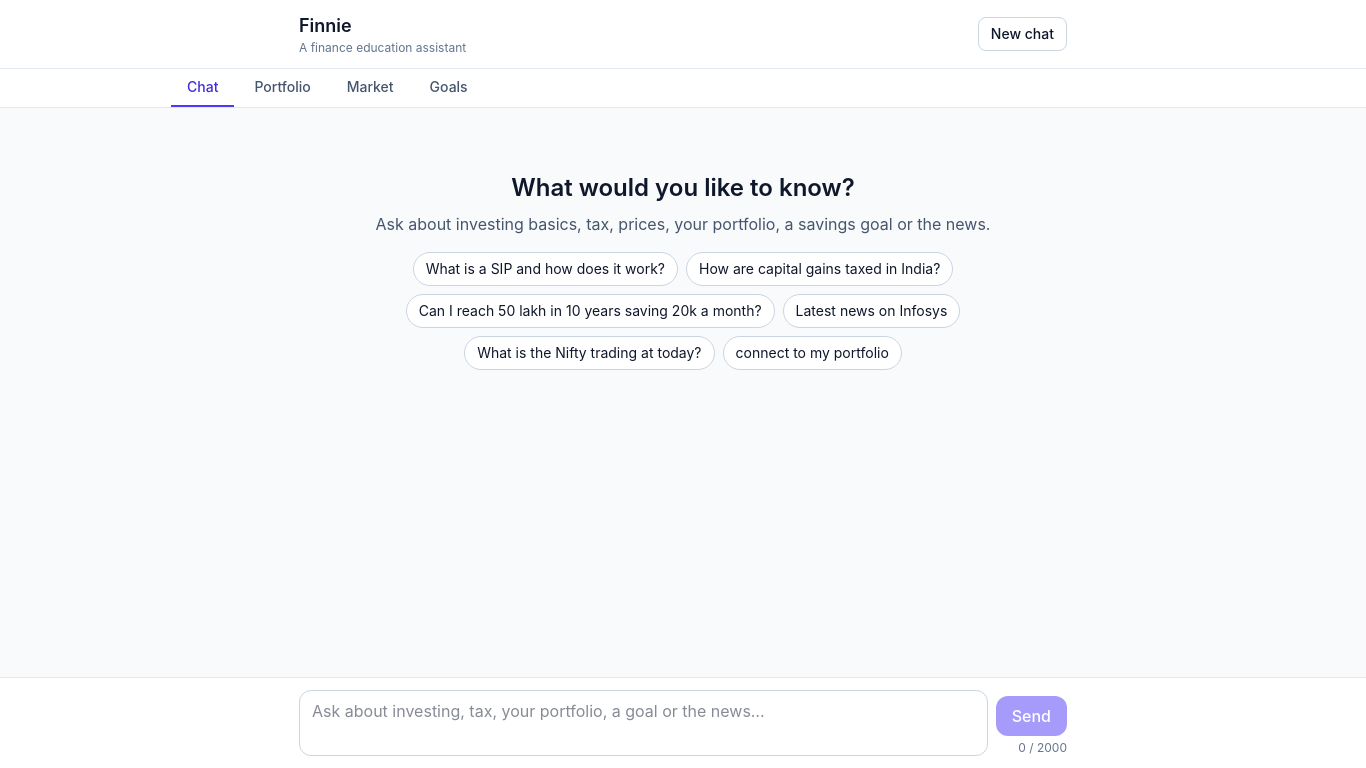
Test: App: the Goals tab › the question and the answer are in the transcript
This screenshot has width=1366, height=768.
Click the tab "Goals": (449, 88) [414, 69, 484, 107]
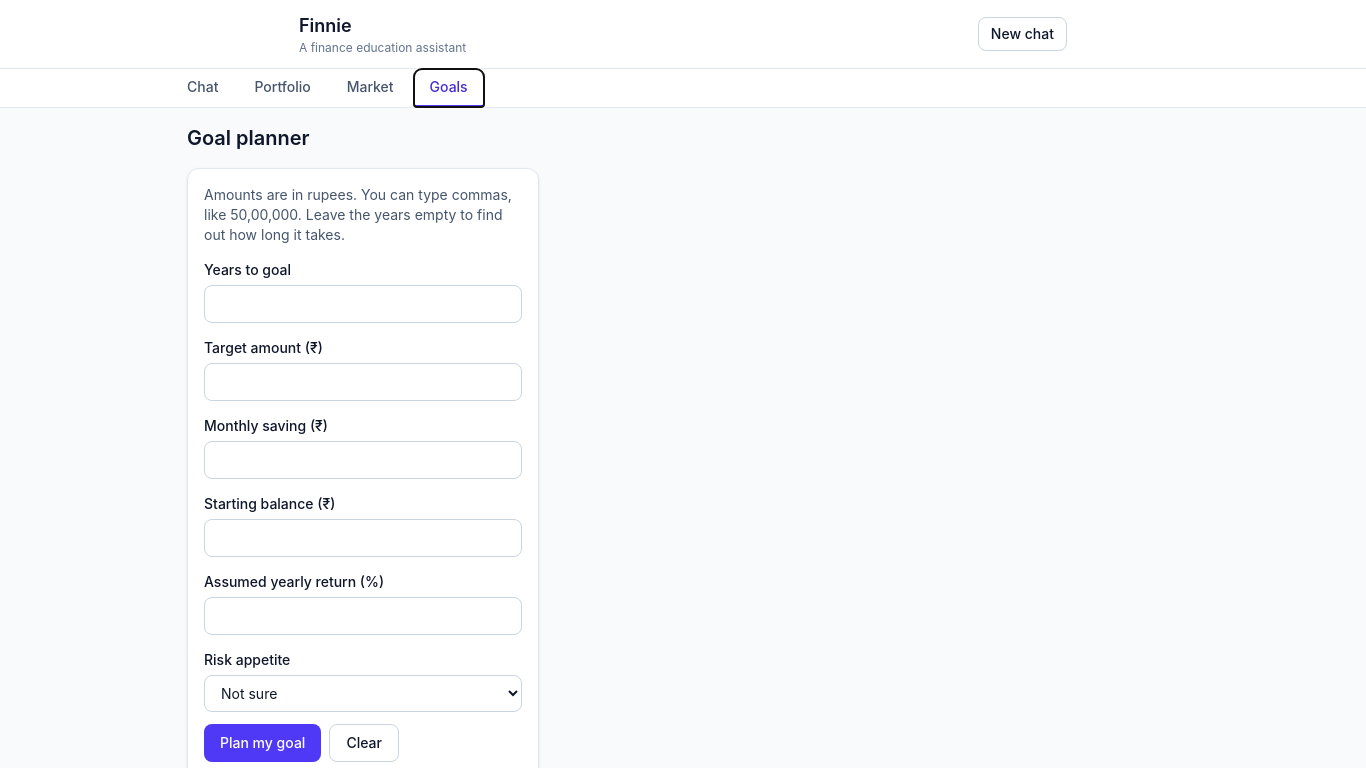
In the field labelled "Years to goal": (363, 304) [204, 285, 522, 323], type "10"
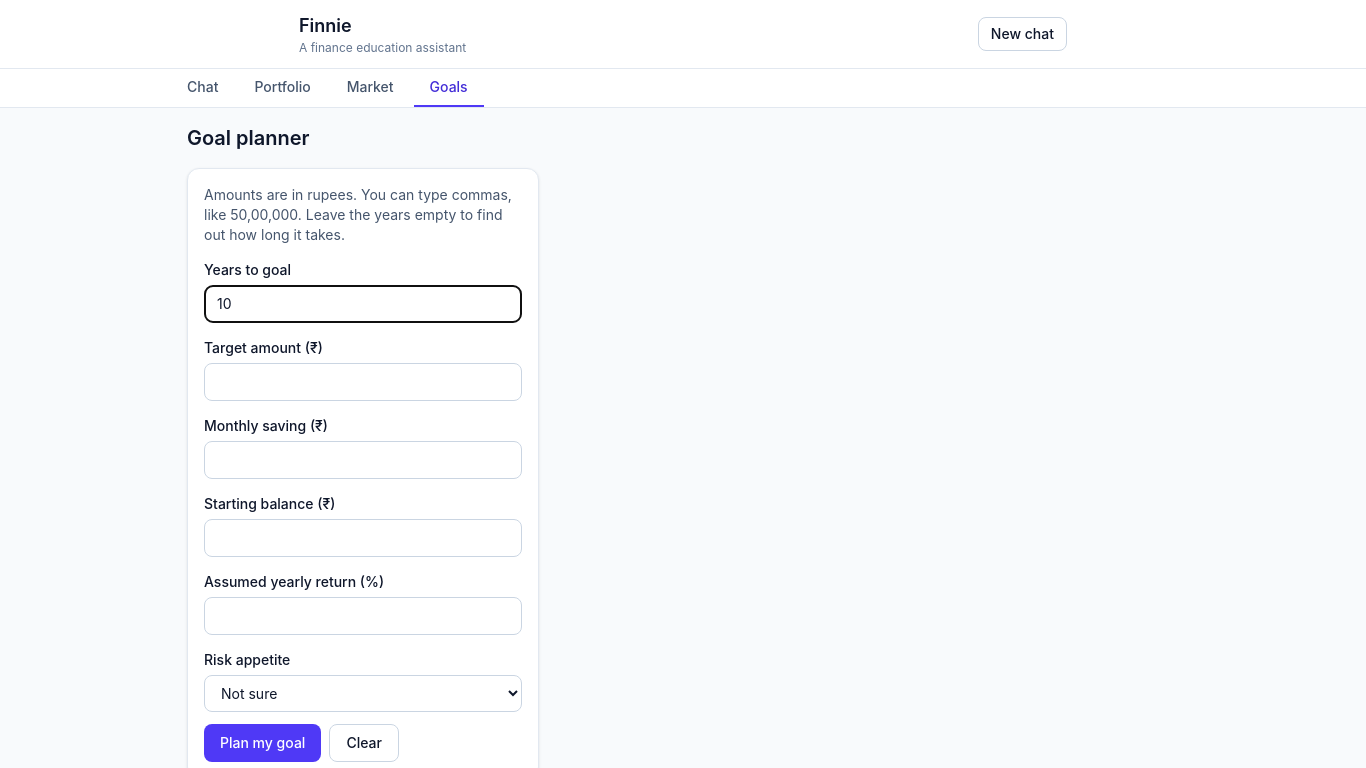
In the field labelled "Monthly saving (₹)": (363, 460) [204, 441, 522, 479], type "20000"
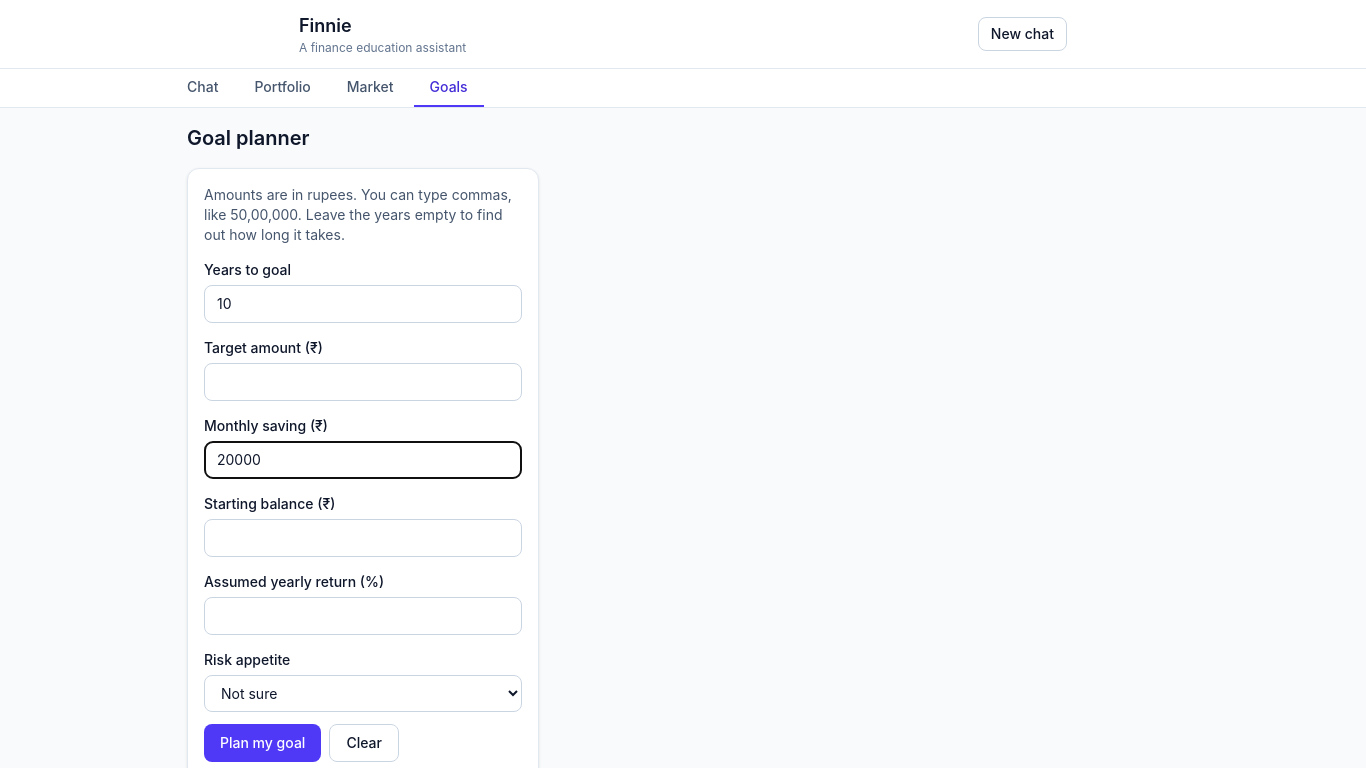
Click the button "Plan my goal": (263, 743) [204, 724, 321, 762]
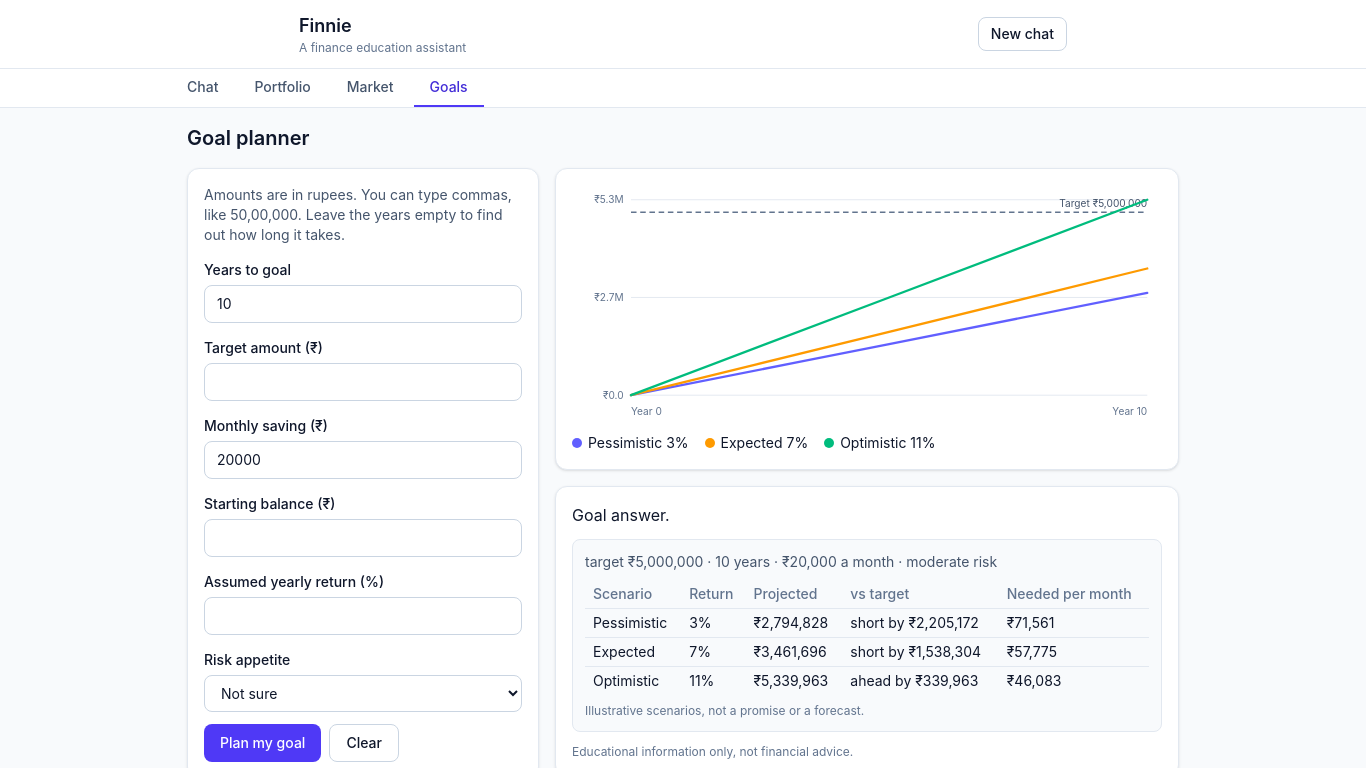
Now the picture named "projected balance" is shown, box [572, 185, 1162, 425]
Click the tab "Chat": (203, 88) [171, 69, 234, 107]
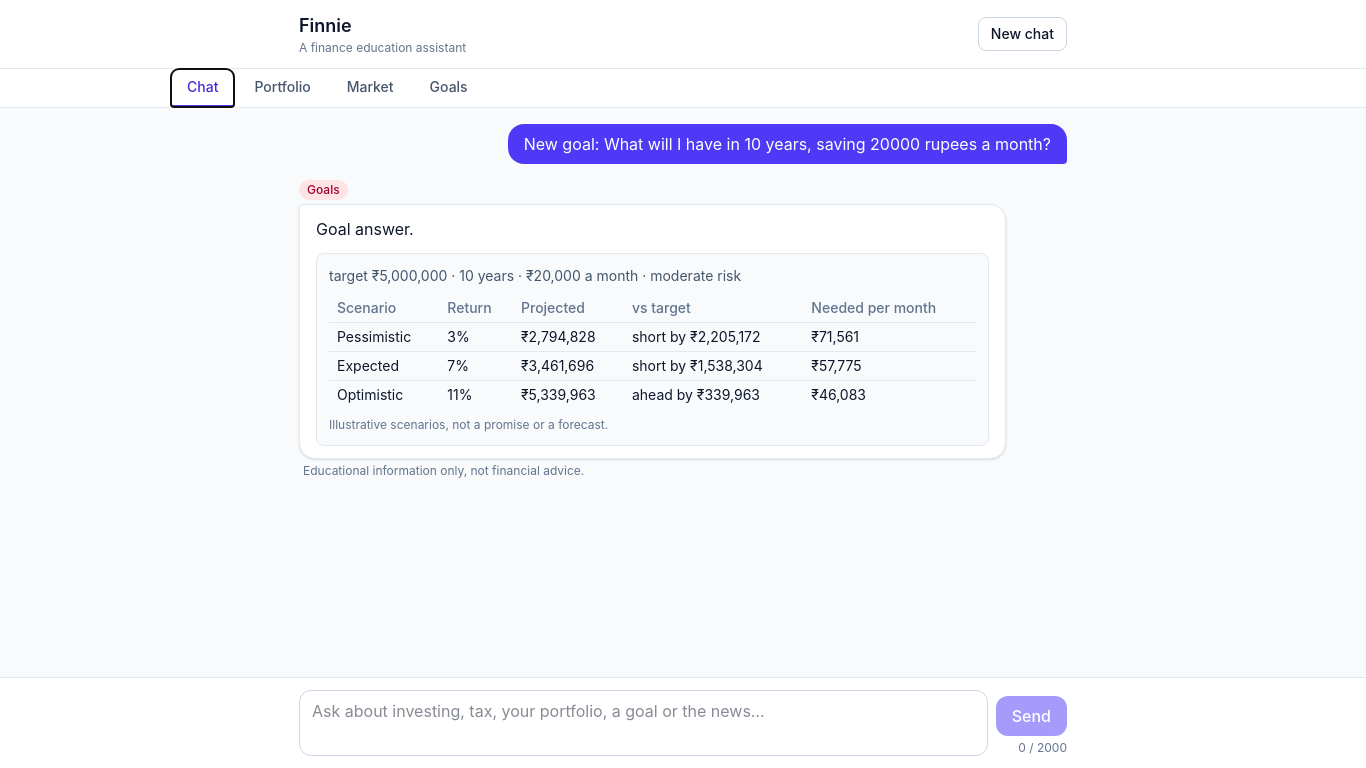
Now the text "Goal answer." is shown, box [316, 219, 414, 239]
Now the text "New goal: What will I have in 10 years, saving 20000 rupees a month?" is shown, box [524, 132, 1051, 156]
